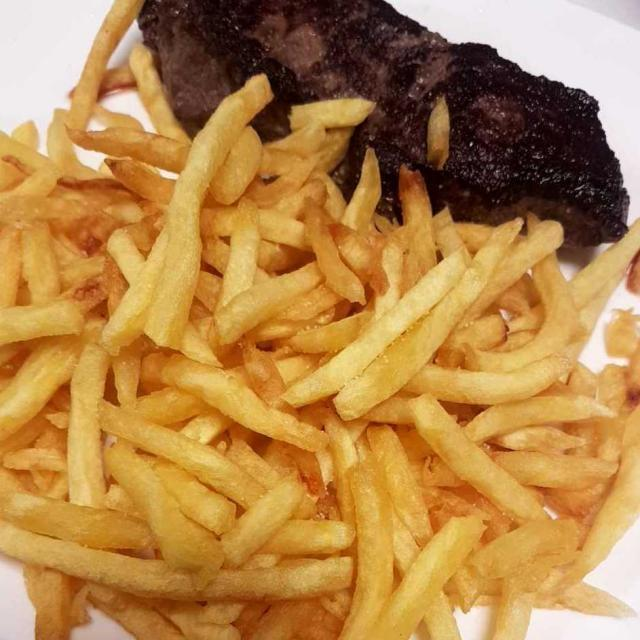chips-french-fries: (3, 30, 632, 615)
